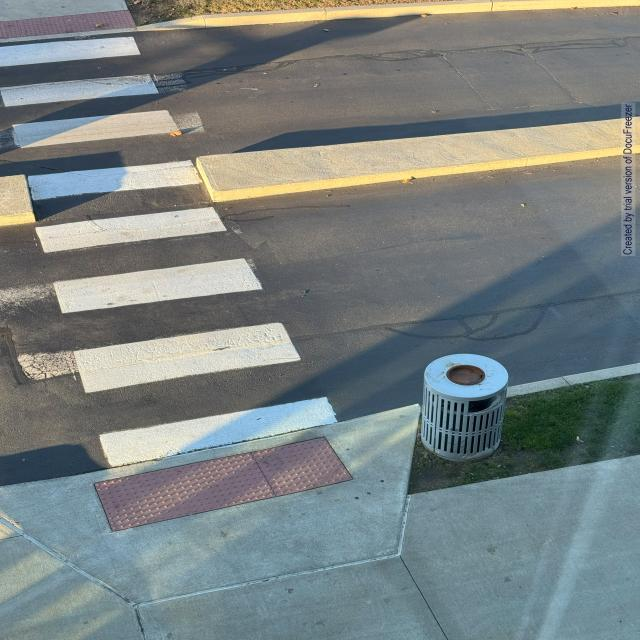Trash bin: (418, 343, 546, 493)
